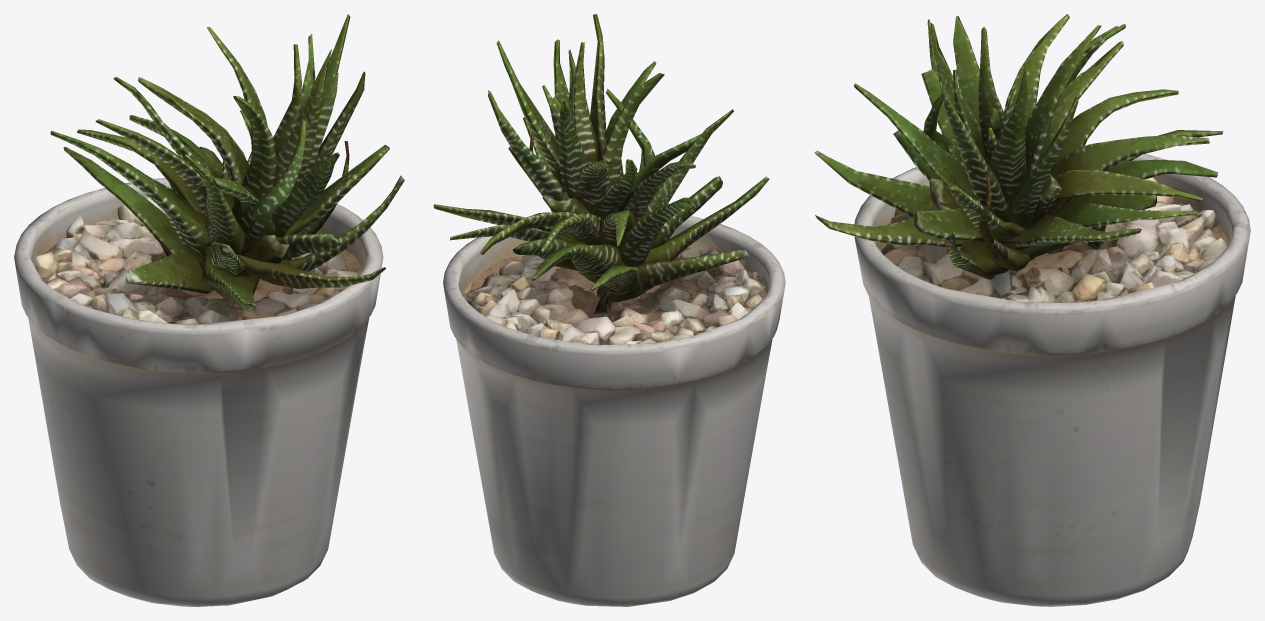
File: potted_plant_04.glb
The picture shows the model from 3 angles, left to right: view 1: azimuth 30°, elevation 25°; view 2: azimuth 150°, elevation 25°; view 3: azimuth 270°, elevation 25°; orthographic projection. The views are drawn at different scales.
Parts seen in each view (by area): view 1: potted_plant_04_ground; view 2: potted_plant_04_ground; view 3: potted_plant_04_ground.
Boxes of the visible parts, box(x1,y1,x2,y2) form: potted_plant_04_ground: box(14, 14, 404, 606); potted_plant_04_ground: box(433, 14, 785, 606); potted_plant_04_ground: box(814, 14, 1250, 606).
Bounding box in the file's own units: 0.1679 × 0.2672 × 0.1845.
1 material, 1 textured.
